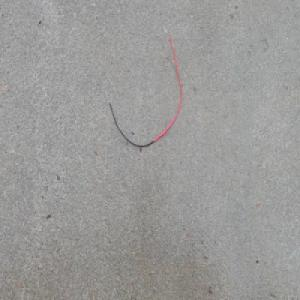Wire: (103, 24, 182, 147)
